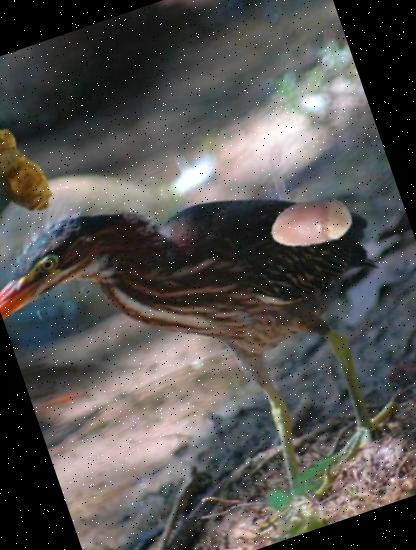Ginger: (0, 106, 80, 234)
Hazelnut: (258, 169, 365, 276)
